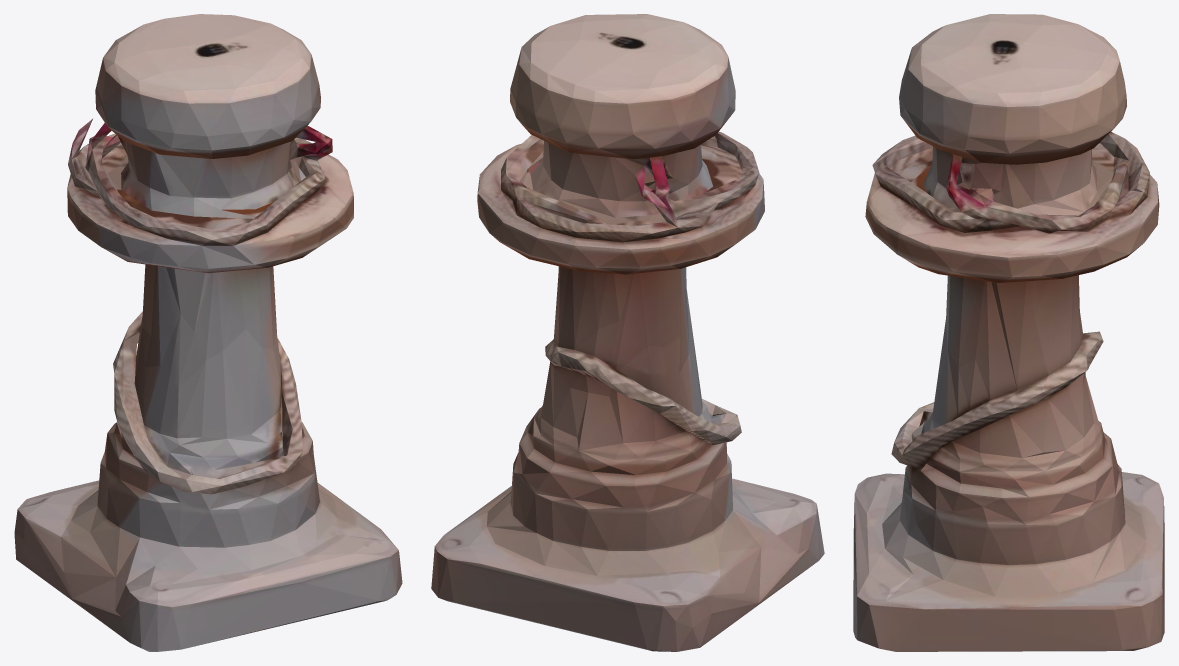
Rendered from dock_bollard.glb.
3 renders of one model, left to right at view 1: azimuth 30°, elevation 25°; view 2: azimuth 150°, elevation 25°; view 3: azimuth 270°, elevation 25°, orthographic. The views are drawn at different scales.
Parts seen in each view (by area): view 1: textured_mesh.obj; view 2: textured_mesh.obj; view 3: textured_mesh.obj.
Part boxes in pixels (box(x1,y1,x2,y2)): textured_mesh.obj: box(14, 14, 402, 651); textured_mesh.obj: box(431, 14, 824, 651); textured_mesh.obj: box(853, 14, 1164, 651).
Size of the model in its own units: 0.4297 by 0.8 by 0.4186.
Materials: 1 (1 with a texture image).
